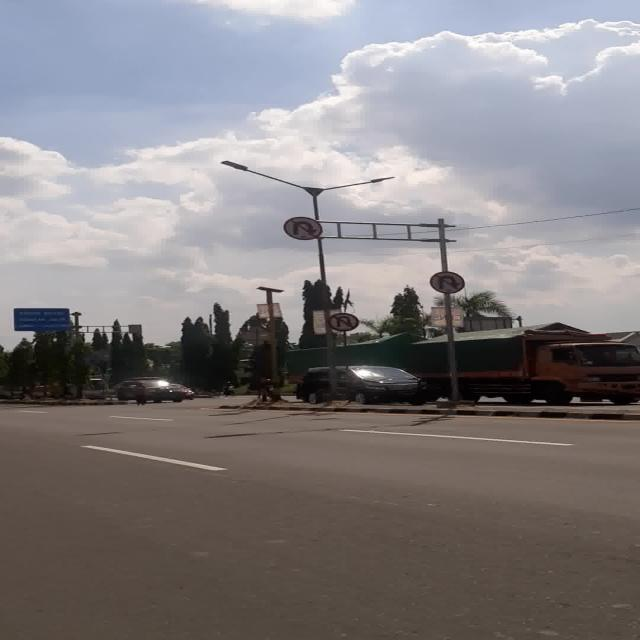Dilarang Putar Balik: (284, 217, 323, 240), (430, 270, 465, 294), (328, 313, 360, 331)
